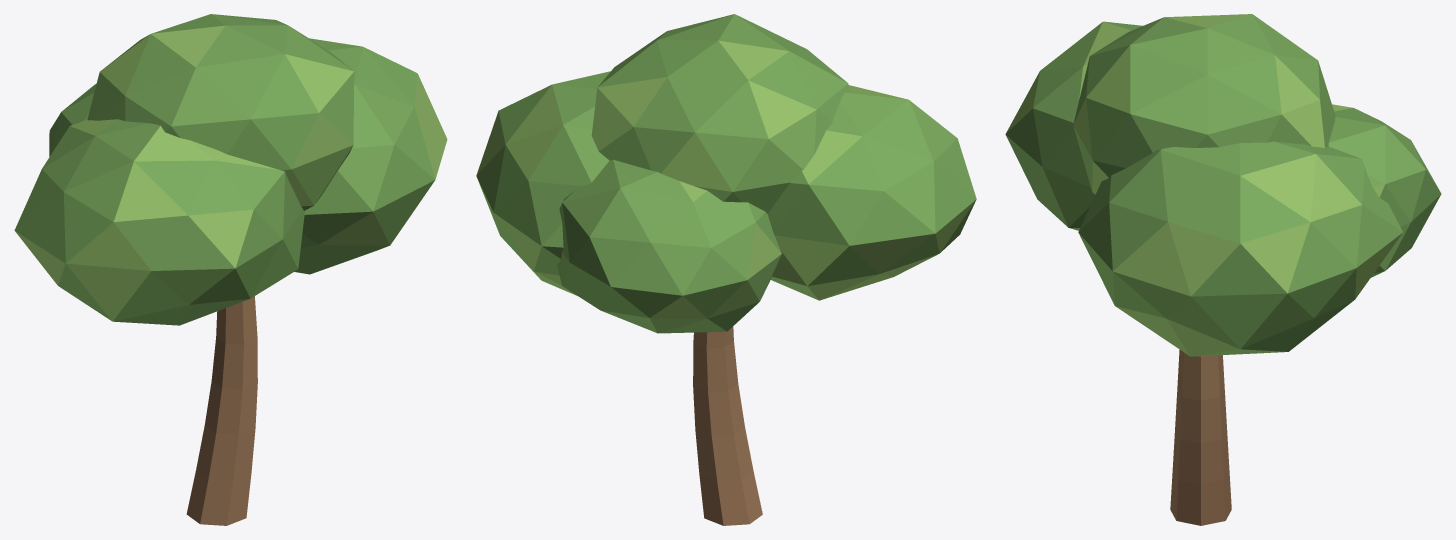
File: nmg_tree_open.glb
3 renders of one model, left to right at view 1: azimuth 30°, elevation 25°; view 2: azimuth 150°, elevation 25°; view 3: azimuth 270°, elevation 25°, orthographic. The views are drawn at different scales.
Visible parts, largest first — view 1: nmg_tree_open; view 2: nmg_tree_open; view 3: nmg_tree_open.
Part boxes in pixels (<box>): nmg_tree_open: <box>14,14,447,525</box>; nmg_tree_open: <box>476,14,976,525</box>; nmg_tree_open: <box>1005,14,1441,525</box>.
Size of the model in its own units: 3.84 by 4.11 by 3.32.
